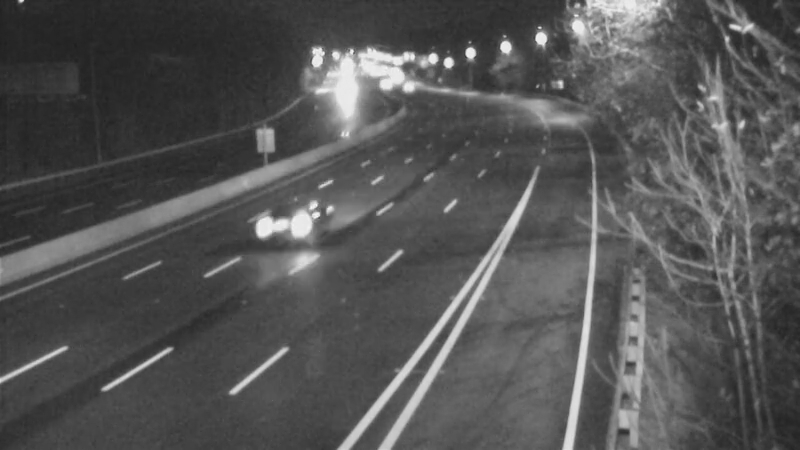vehicle: (248, 187, 328, 267)
